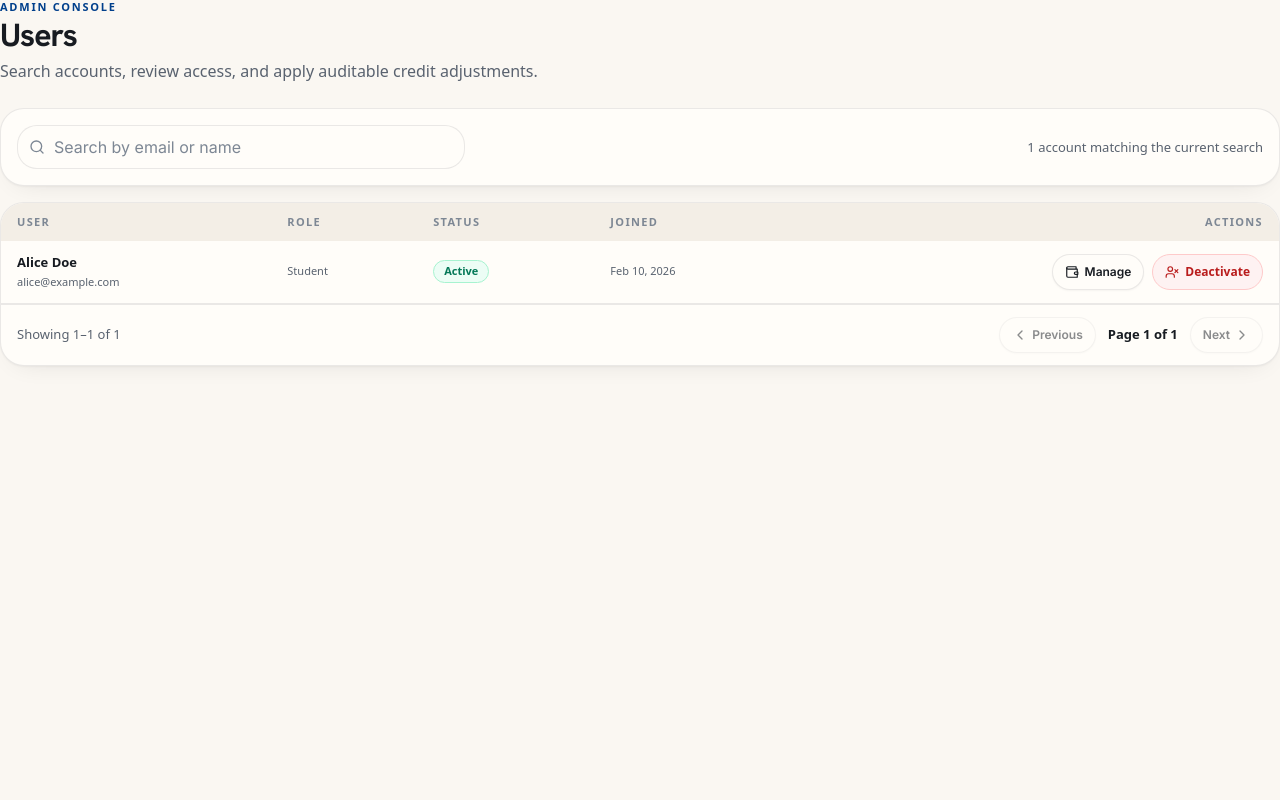
Test case: AdminUsersPage › disables the adjustment form when no applicant credit account can be resolved
expect the text "Alice Doe" is shown: met, box x1=17 y1=253 x2=77 y2=272
Click the button with aria-label "manage alice@example.com". click: (1098, 272)
box: x1=1052 y1=254 x2=1144 y2=290
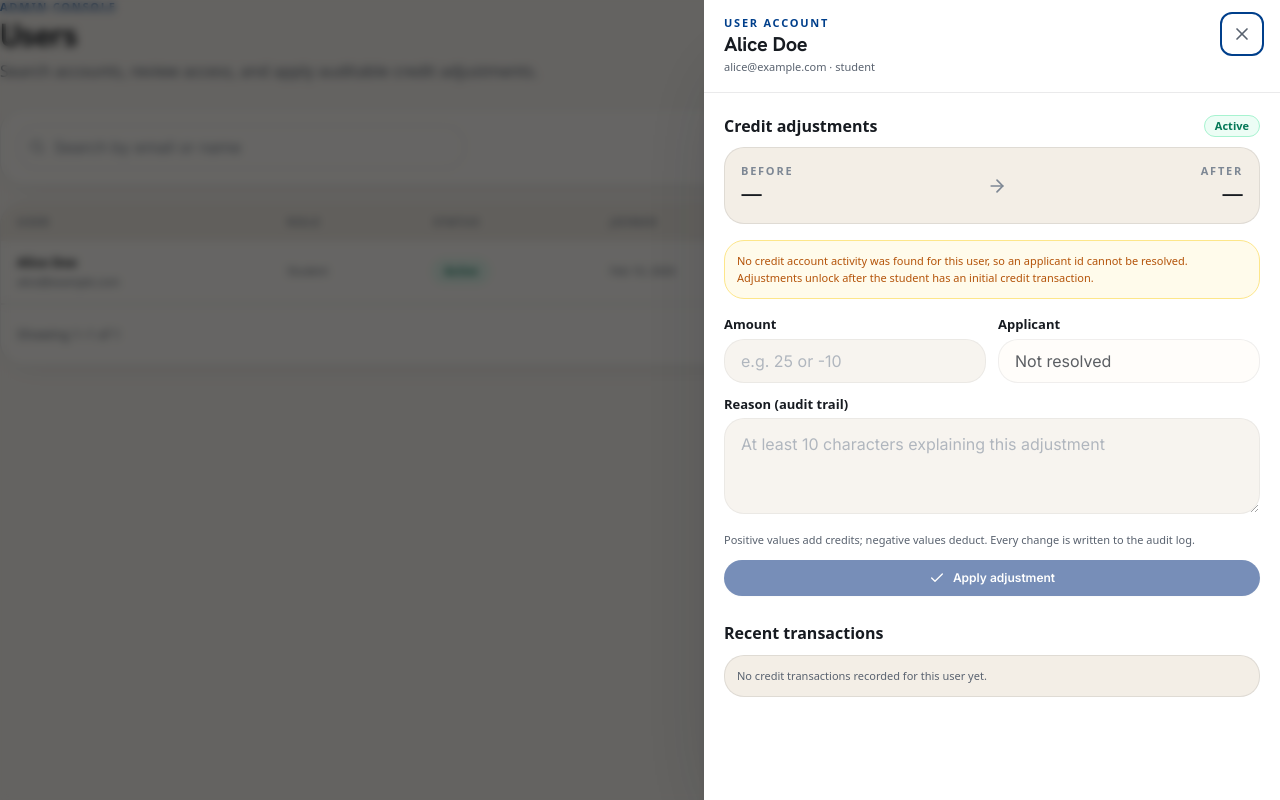
expect the text "No credit account activity was found" is shown: met, box x1=737 y1=253 x2=1188 y2=285
expect the button "Apply adjustment" is disabled: met, box x1=724 y1=560 x2=1260 y2=596
